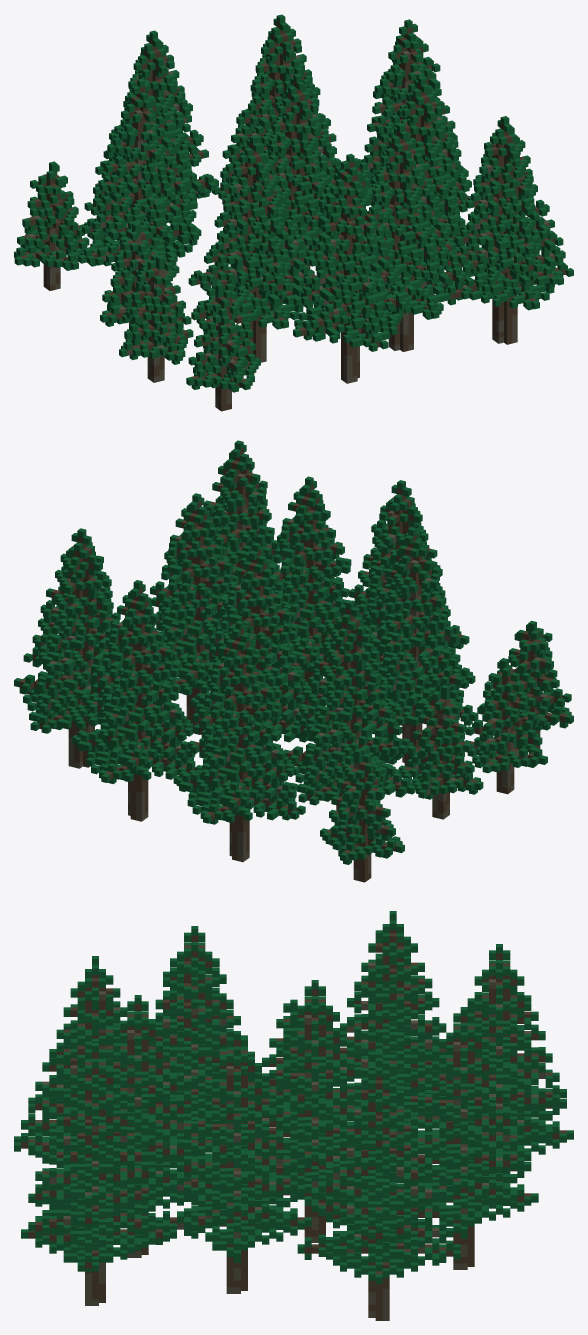
The model's file is trees_12_overtile.obj.
3 views of the same model, one above another, from view 1: azimuth 30°, elevation 25°; view 2: azimuth 150°, elevation 25°; view 3: azimuth 270°, elevation 25° (orthographic). The views are drawn at different scales.
Size of the model in its own units: 7.9 by 4 by 7.9.
Materials: 1 (1 with a texture image).
